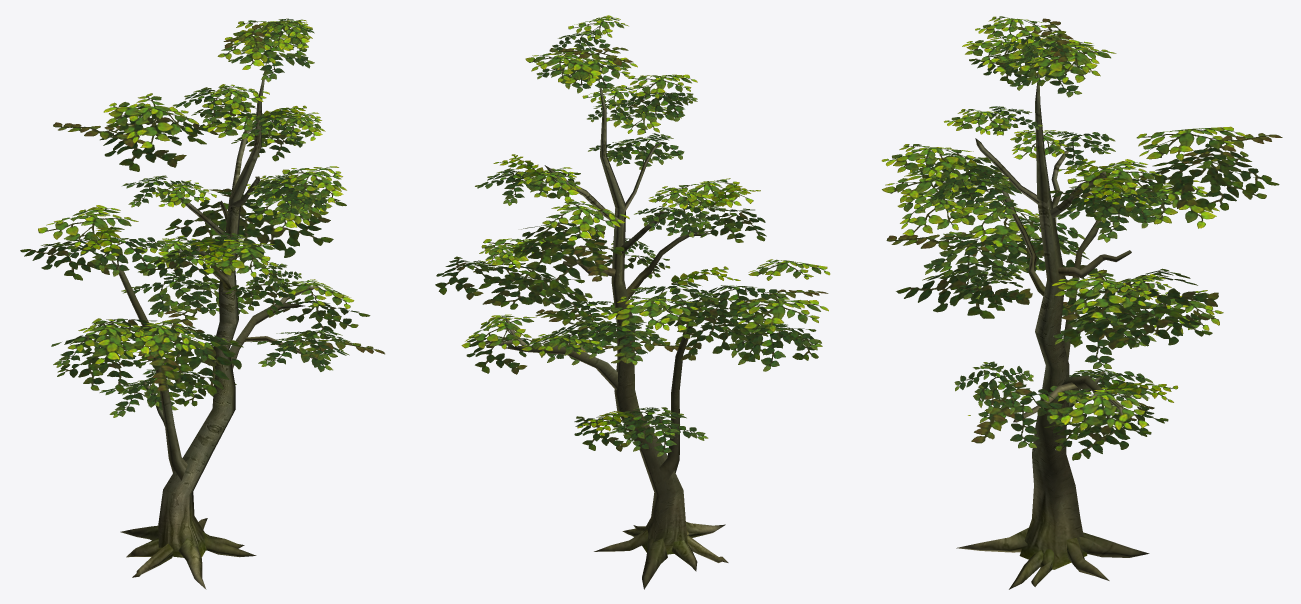
Rendered from S_Tree_Green126.FBX.
3 renders of one model, left to right at view 1: azimuth 30°, elevation 25°; view 2: azimuth 150°, elevation 25°; view 3: azimuth 270°, elevation 25°, orthographic. The views are drawn at different scales.
Visible parts, largest first — view 1: S_Tree_Green126_2, S_Tree_Green126_1; view 2: S_Tree_Green126_2, S_Tree_Green126_1; view 3: S_Tree_Green126_2, S_Tree_Green126_1.
Boxes of the visible parts, left/top/right/bottom form: S_Tree_Green126_2: left=20, top=18, right=384, bottom=417; S_Tree_Green126_1: left=112, top=63, right=318, bottom=589; S_Tree_Green126_2: left=435, top=15, right=830, bottom=456; S_Tree_Green126_1: left=485, top=80, right=728, bottom=589; S_Tree_Green126_2: left=881, top=16, right=1282, bottom=460; S_Tree_Green126_1: left=956, top=67, right=1149, bottom=589.
Bounding box in the file's own units: 238 × 339 × 217.
Materials: 2 (2 with a texture image).
